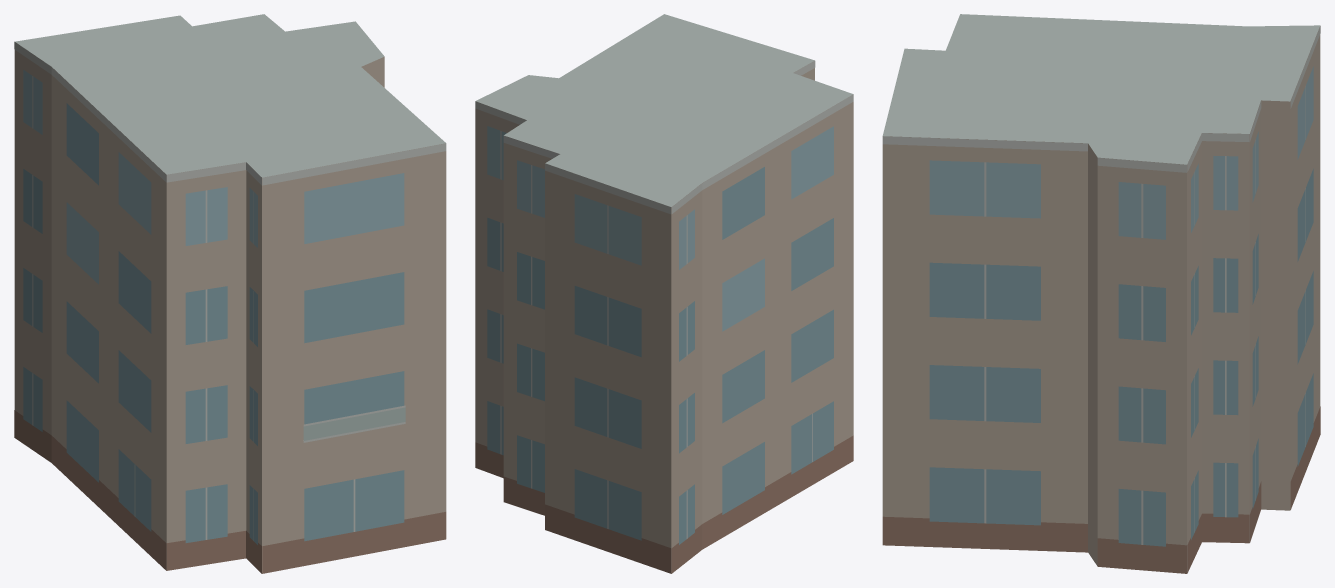
Rendered from survey-upis-32646171.glb.
3 renders of one model, left to right at view 1: azimuth 30°, elevation 25°; view 2: azimuth 150°, elevation 25°; view 3: azimuth 270°, elevation 25°, orthographic. The views are drawn at different scales.
Visible parts, largest first — view 1: survey-upis-32646171.tmp; view 2: survey-upis-32646171.tmp; view 3: survey-upis-32646171.tmp.
Boxes of the visible parts, x1,y1,x2,y2 form: survey-upis-32646171.tmp: (14,14,446,573); survey-upis-32646171.tmp: (475,14,853,573); survey-upis-32646171.tmp: (882,14,1320,573).
Bounding box in the file's own units: 9.65 × 12.2 × 11.84.
